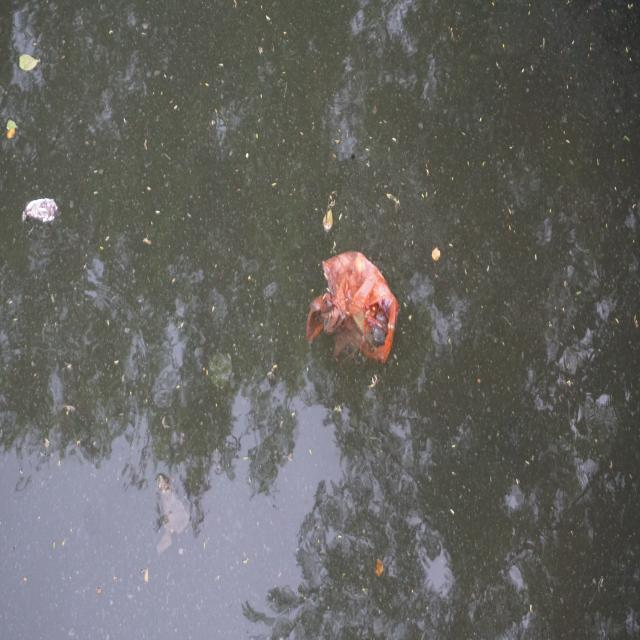Bungkus Makanan: (18, 194, 61, 230)
Kantong Plastik: (305, 252, 399, 371)
